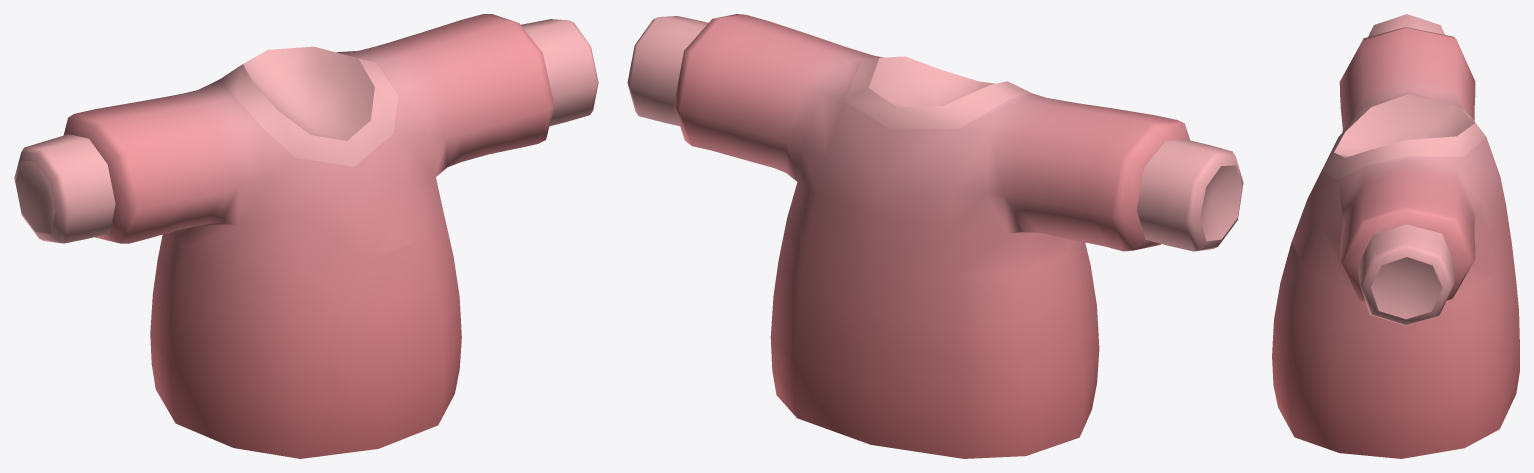
Rendered from Top_15.fbx.
3 views of the same model, side by side, from view 1: azimuth 30°, elevation 25°; view 2: azimuth 150°, elevation 25°; view 3: azimuth 270°, elevation 25° (orthographic). The views are drawn at different scales.
Parts seen in each view (by area): view 1: Top_15; view 2: Top_15; view 3: Top_15.
Part boxes in pixels (x1=…): Top_15: x1=14, y1=14, x2=598, y2=458; Top_15: x1=627, y1=14, x2=1243, y2=458; Top_15: x1=1272, y1=14, x2=1519, y2=458.
Size of the model in its own units: 80.73 by 46.22 by 35.79.
